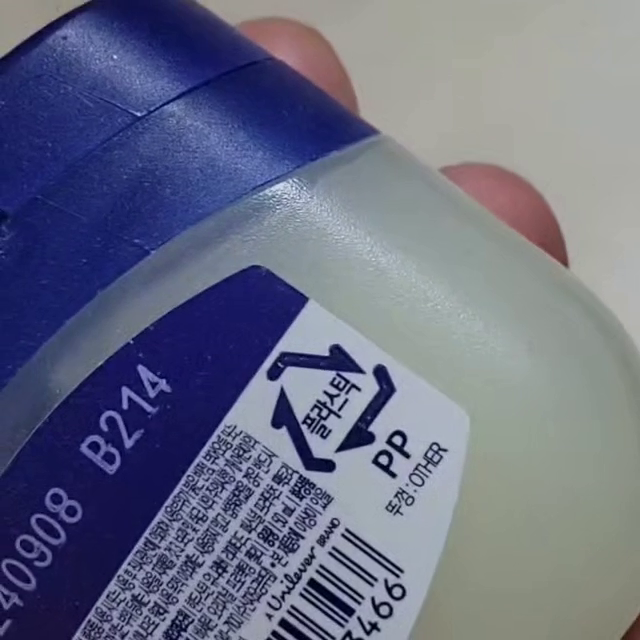Plastic: (266, 342, 399, 473)
